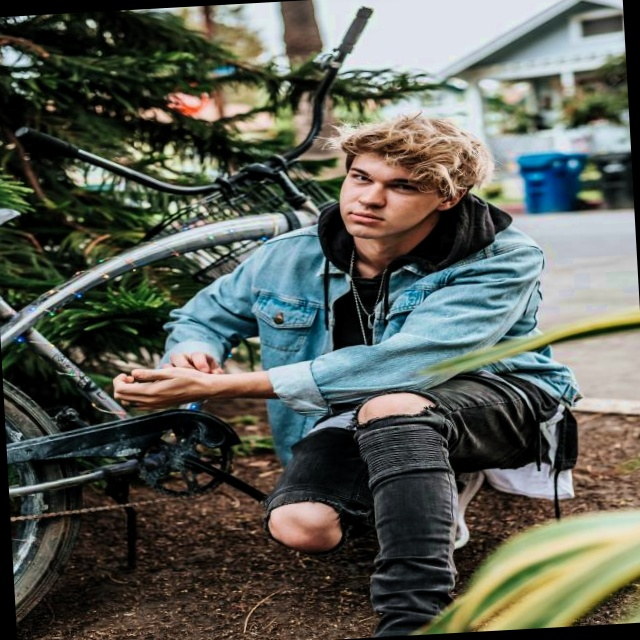ripped_pants: (253, 366, 594, 640)
